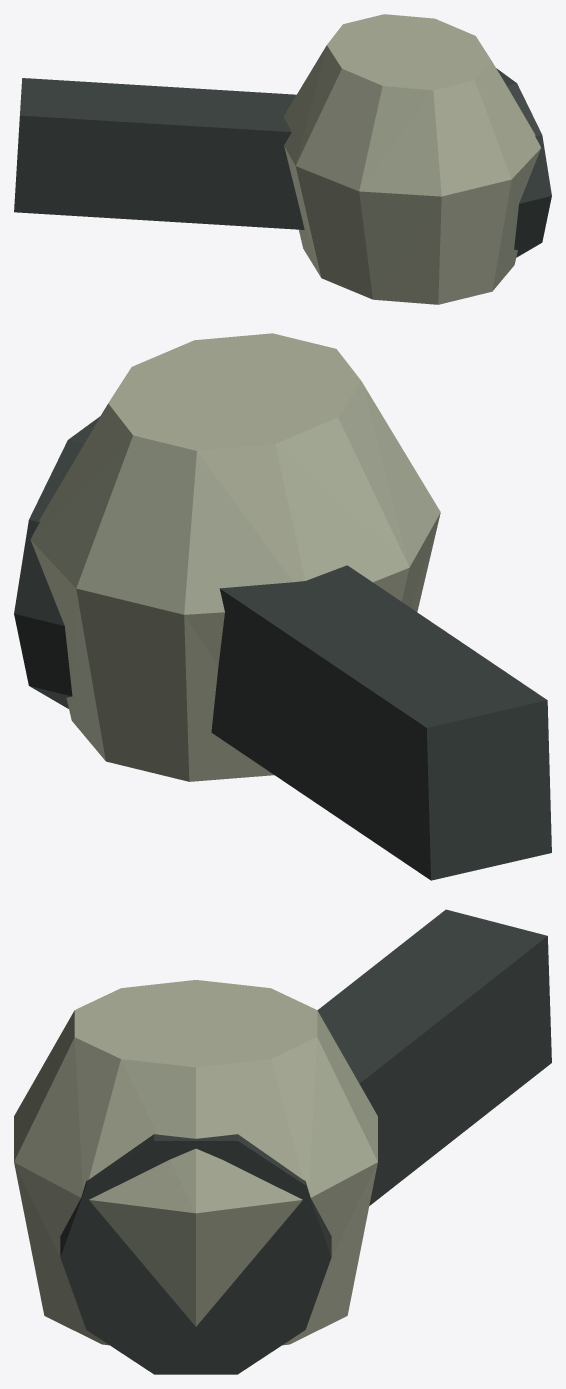
Rendered from scyther_arm_left.obj.
The picture shows the model from 3 angles, top to bottom: view 1: azimuth 30°, elevation 25°; view 2: azimuth 150°, elevation 25°; view 3: azimuth 270°, elevation 25°; orthographic projection. The views are drawn at different scales.
Parts seen in each view (by area): view 1: scyther_arm_left; view 2: scyther_arm_left; view 3: scyther_arm_left.
Part boxes in pixels (box(x1,y1,x2,y2)): scyther_arm_left: box(14, 14, 551, 304); scyther_arm_left: box(14, 333, 551, 880); scyther_arm_left: box(14, 909, 551, 1374).
Size of the model in its own units: 0.4017 by 0.2008 by 0.3374.
